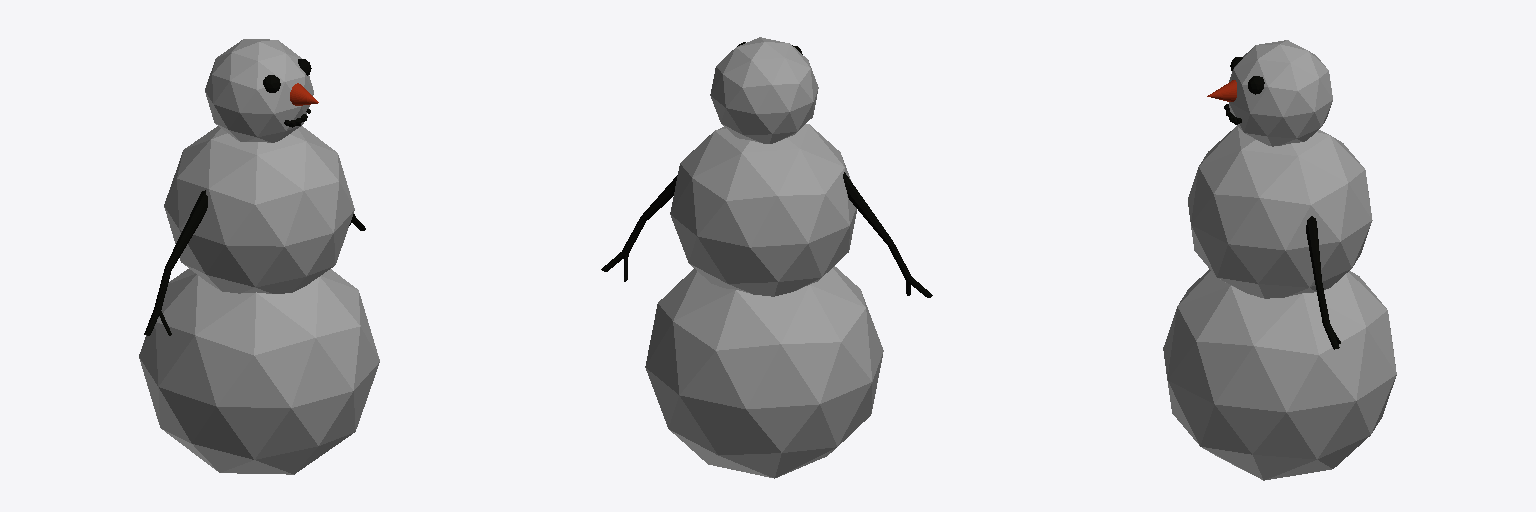
File: zSnowman_Icosphere.004.obj
The picture shows the model from 3 angles: view 1: azimuth 30°, elevation 25°; view 2: azimuth 150°, elevation 25°; view 3: azimuth 270°, elevation 25°; orthographic projection.
Parts seen in each view (by area): view 1: zSnowman_Icosphere.004; view 2: zSnowman_Icosphere.004; view 3: zSnowman_Icosphere.004.
Boxes of the visible parts, x1,y1,x2,y2 form: zSnowman_Icosphere.004: [139, 39, 379, 474]; zSnowman_Icosphere.004: [601, 37, 932, 478]; zSnowman_Icosphere.004: [1163, 40, 1396, 480].
Bounding box in the file's own units: 2.32 × 3.43 × 1.7.